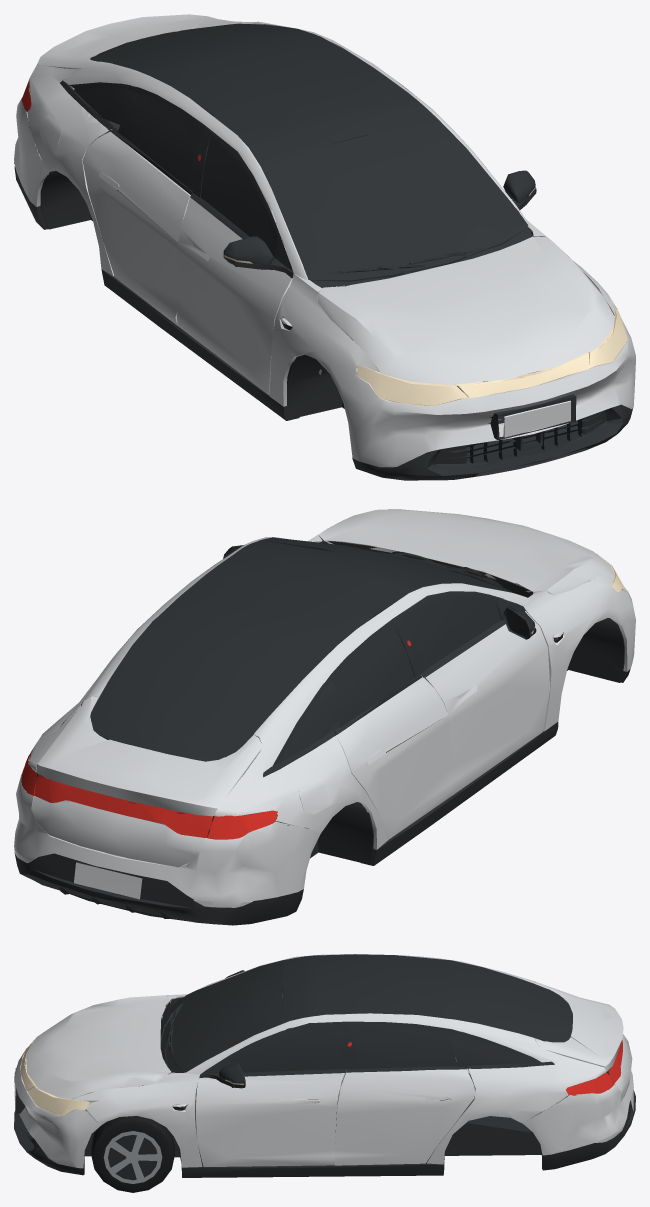
Rendered from ev-sedan-long.glb.
3 views of the same model, one above another, from view 1: azimuth 30°, elevation 25°; view 2: azimuth 150°, elevation 25°; view 3: azimuth 270°, elevation 25° (orthographic). The views are drawn at different scales.
Visible parts, largest first — view 1: Car body, Car trim, Car headlamps; view 2: Car body, Car trim, Car tail lamps; view 3: Car body, Car trim, Wheel tyre, Wheel rim, Car headlamps, Wheel well, Car tail lamps.
Part boxes in pixels (bbox=[...]): Car body: bbox=[14, 14, 635, 467]; Car trim: bbox=[14, 23, 633, 480]; Car headlamps: bbox=[224, 185, 627, 406]; Car body: bbox=[14, 509, 635, 907]; Car trim: bbox=[14, 536, 630, 925]; Car tail lamps: bbox=[21, 640, 411, 839]; Car body: bbox=[14, 954, 633, 1168]; Car trim: bbox=[14, 954, 635, 1177]; Wheel tyre: bbox=[91, 1116, 174, 1192]; Wheel rim: bbox=[103, 1131, 162, 1183]; Car headlamps: bbox=[20, 1025, 243, 1115]; Wheel well: bbox=[106, 1131, 157, 1180]; Car tail lamps: bbox=[347, 1040, 622, 1095].
Size of the model in its own units: 2.07 by 1.49 by 5.05.
